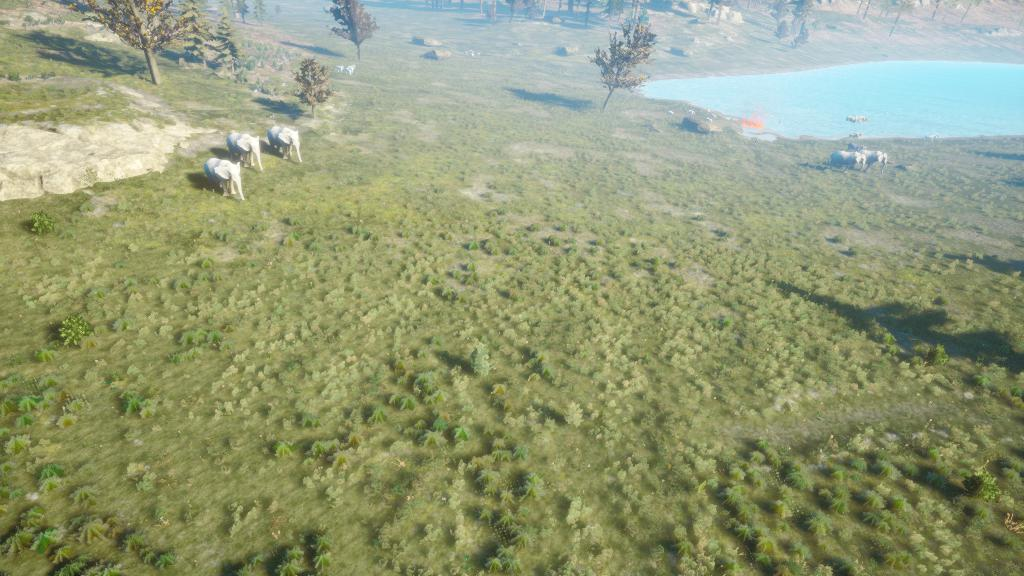Fire: (741, 111, 769, 133)
elephant: (197, 155, 248, 205), (223, 132, 265, 176), (265, 125, 305, 166), (826, 147, 868, 175), (851, 150, 894, 175)
